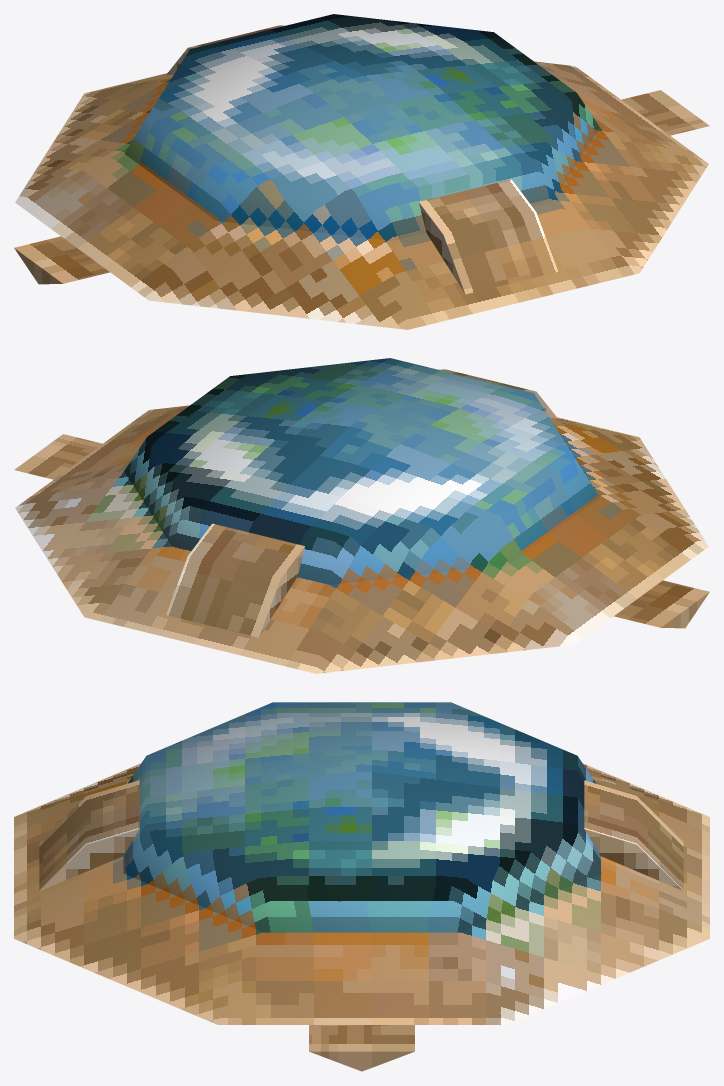
The model's file is eqp_comp_jewelry_setting.fbx.
3 renders of one model, top to bottom at view 1: azimuth 30°, elevation 25°; view 2: azimuth 150°, elevation 25°; view 3: azimuth 270°, elevation 25°, orthographic. The views are drawn at different scales.
Parts seen in each view (by area): view 1: mesh_node; view 2: mesh_node; view 3: mesh_node.
Boxes of the visible parts, x1,y1,x2,y2 form: mesh_node: (14, 14, 709, 329); mesh_node: (14, 358, 709, 673); mesh_node: (14, 702, 709, 1071).
Size of the model in its own units: 0.1165 by 0.0217 by 0.1008.
1 material, 1 textured.
